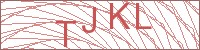J: (81, 5, 98, 34)
K: (107, 2, 132, 30)
L: (135, 2, 152, 30)
T: (53, 19, 76, 49)
